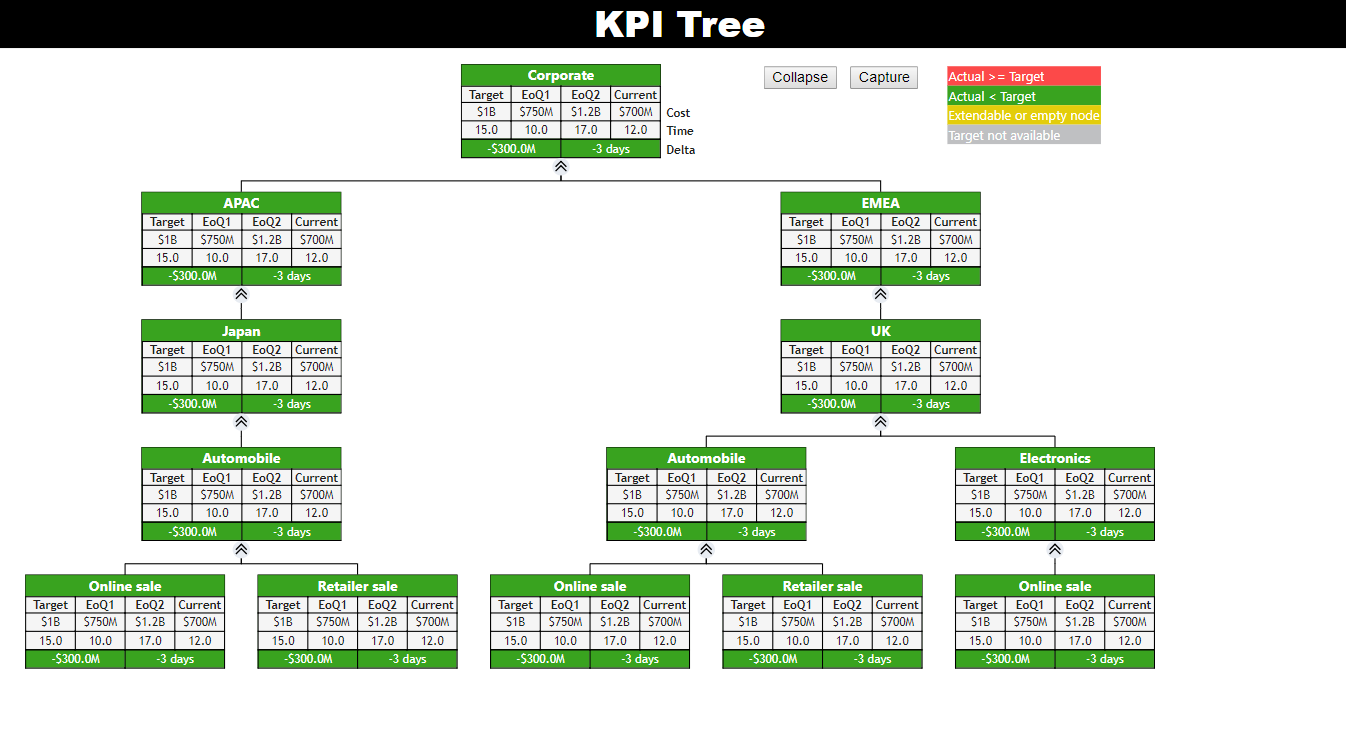

This screenshot's page, from the dashboard's own definition file:
{"tool":"powerbi","page":{"name":"Demo","canvas":[1280,720],"ordinal":0},"visuals":[{"type":"FCB64197A074475B35C21C09AB529C74","title":"KPI Tree","fields":{"category":["Sheet1.Level1","Sheet1.Level2","Sheet1.Level3","Sheet1.Level4","Sheet1.Level5","Sheet1.Line","Sheet1.Measure","Sheet1.Filter"],"value":["Min(Sheet1.Value)"],"color":["Sum(Sheet1.Color)"]},"box":[10.4,0,1270.1,720],"z":1}]}

Visuals, with their boxes in screenshot pixels (x1, y1, x2, y2), scaled from the page's 1280x720 canvas onto the 1346x752 screenshot:
"KPI Tree" FCB64197A074475B35C21C09AB529C74: l=11, t=0, r=1345, b=751
